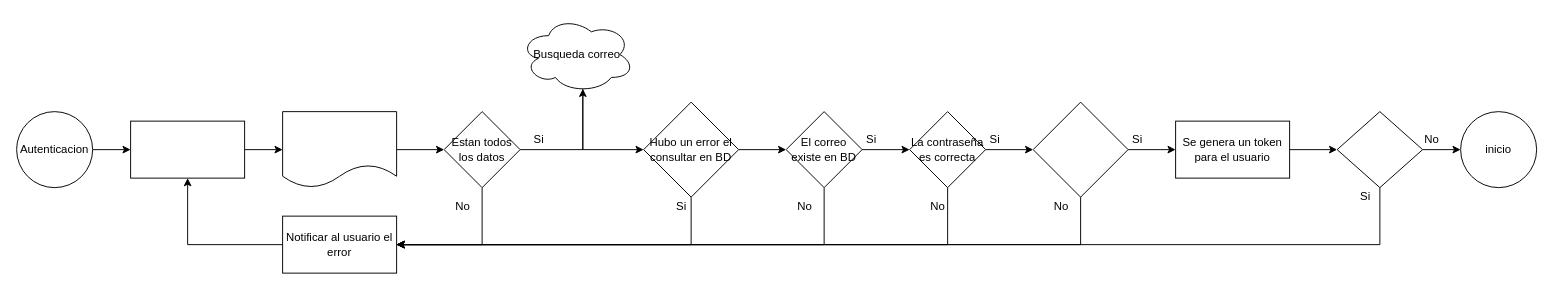
This 1553x290 diagram has some shape labels left out. Here are the shapes that lost their labels. From the top down, the box of each, then its label:
(130, 120, 245, 178): Correo: String Contraseña: String
(282, 111, 397, 188): API auth POST
(1032, 101, 1128, 197): El usuario esta verificado
(1336, 111, 1423, 188): Hubo un error con el token
